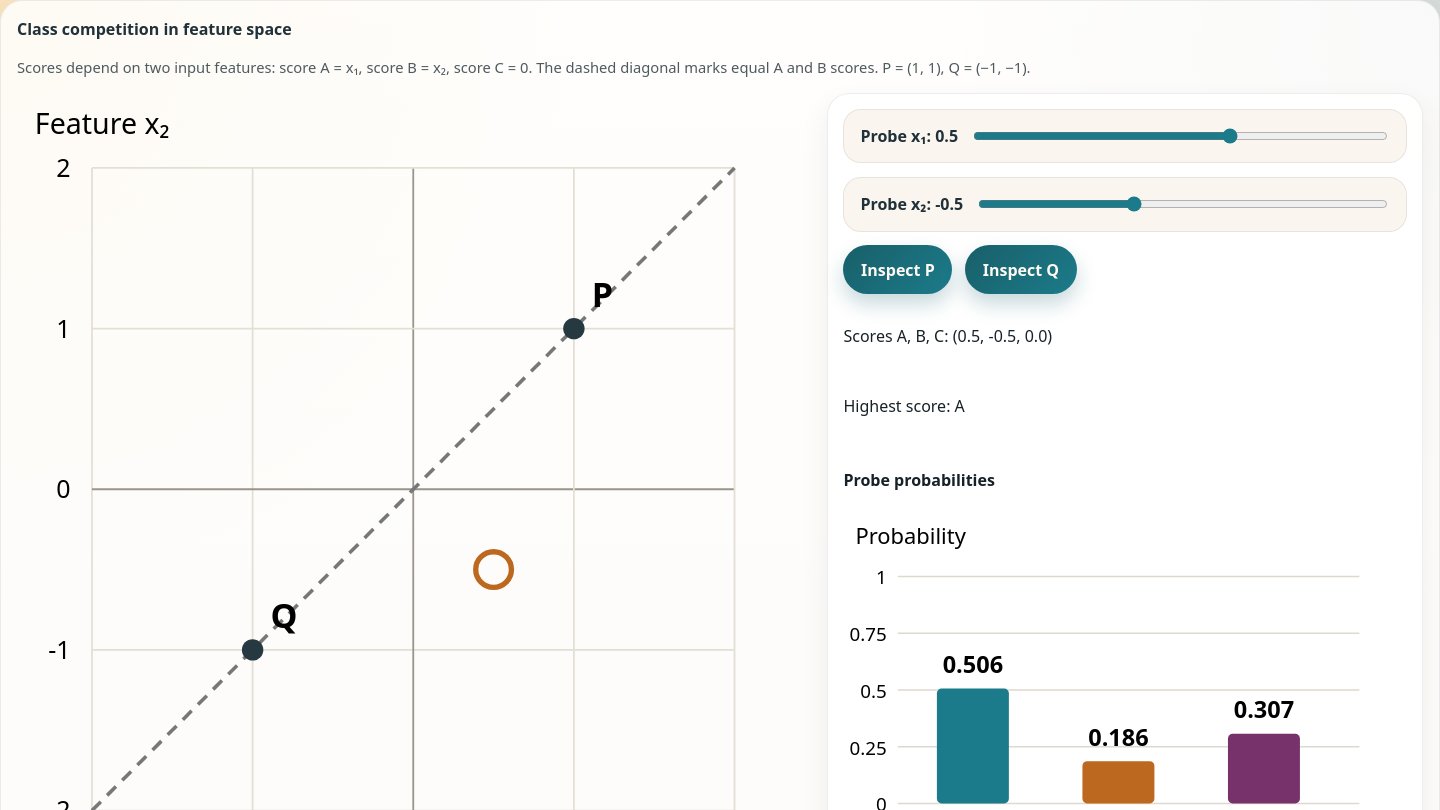
softmax conceptual assignment › lets students probe both marked boundary points
Click the button "Inspect P": [898, 270] box [844, 246, 952, 294]
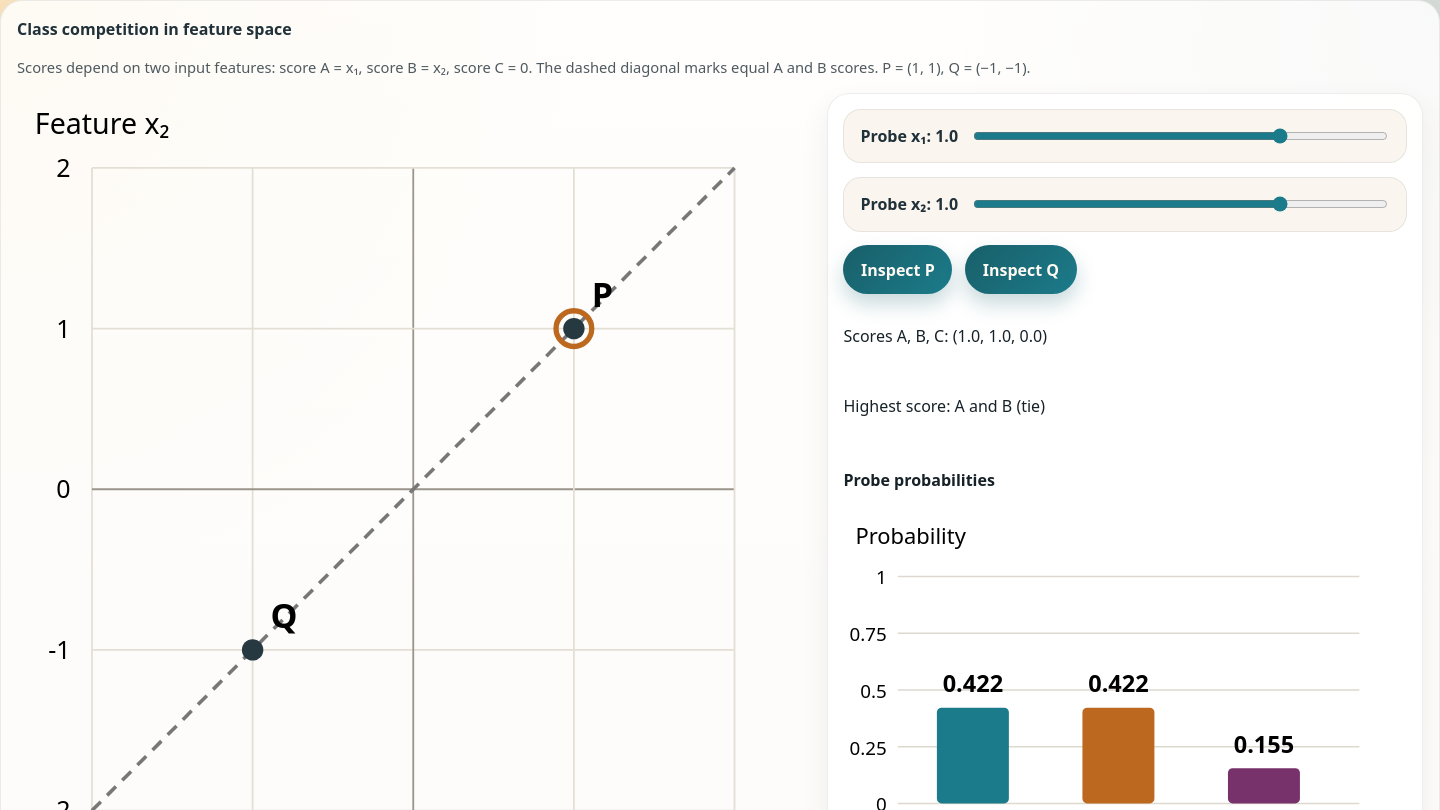
Expected: the text named "Leading probe classes" shows "A and B (tie)", [844, 395, 1045, 417]
Click the button "Inspect Q": [1021, 270] box [965, 246, 1077, 294]
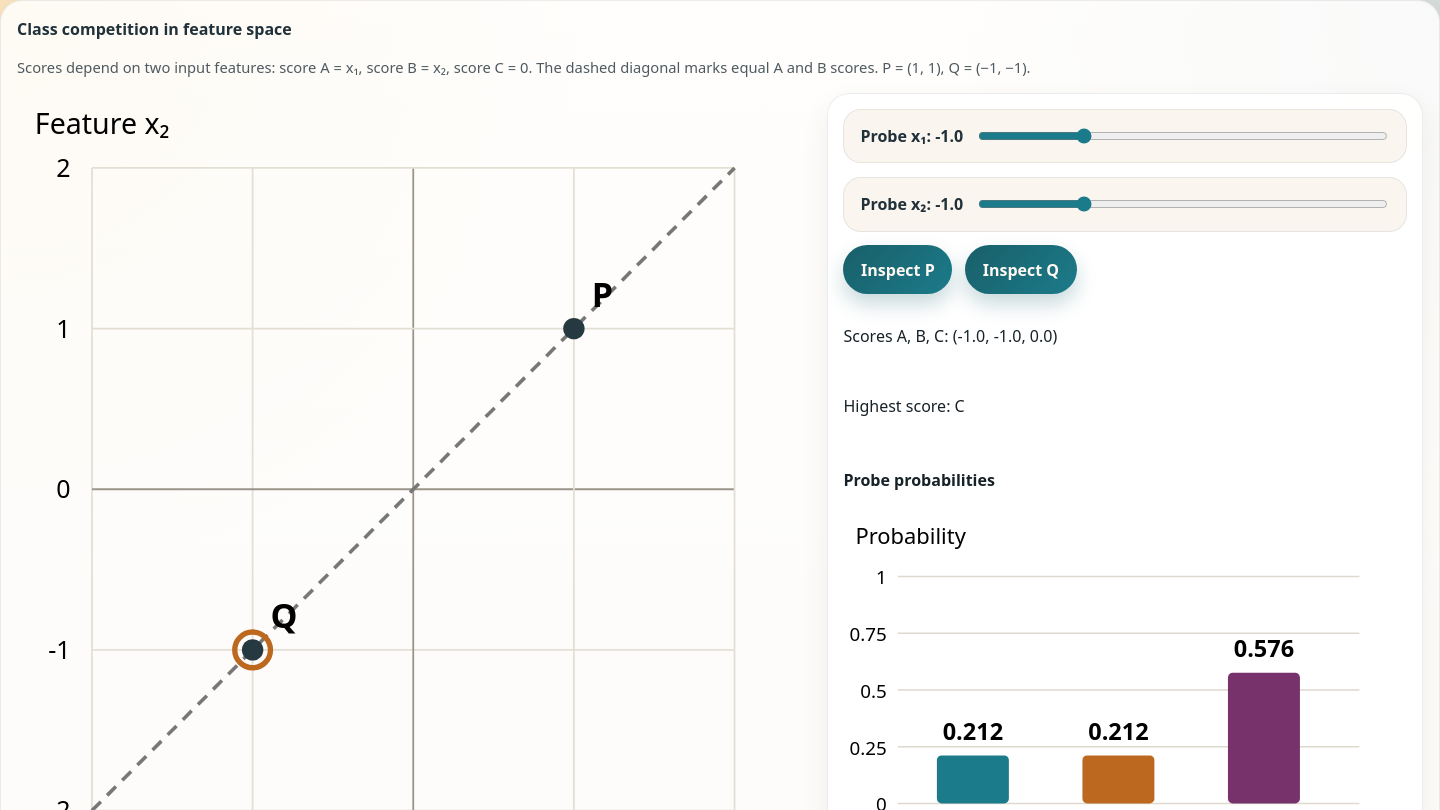
Expected: the text named "Leading probe classes" reads "Highest score: C", [844, 395, 965, 417]
Set the slider named "Probe feature 1" to "2": [1380, 136] box [978, 128, 1388, 144]
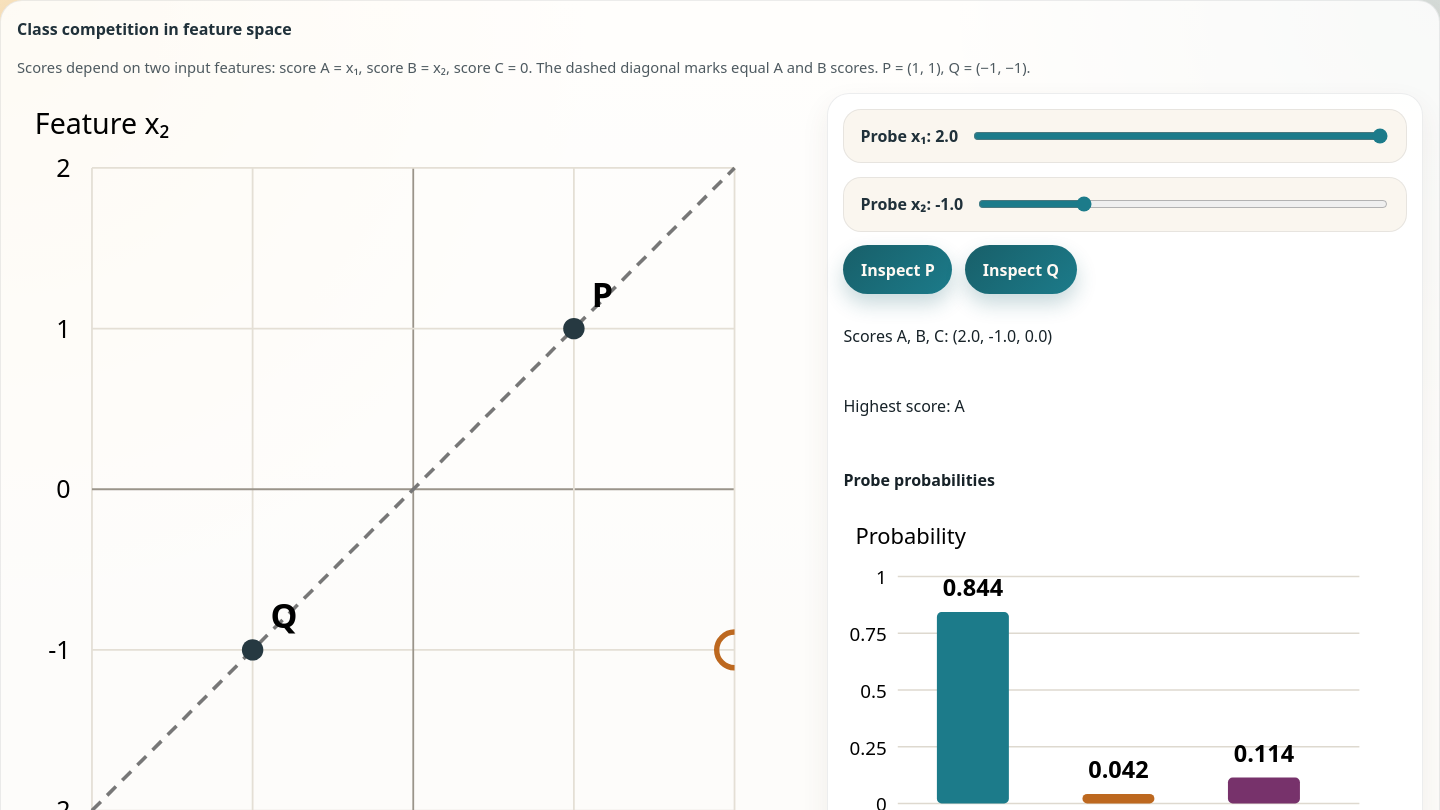
Expected: the text named "Leading probe classes" reads "Highest score: A", [844, 395, 965, 417]
